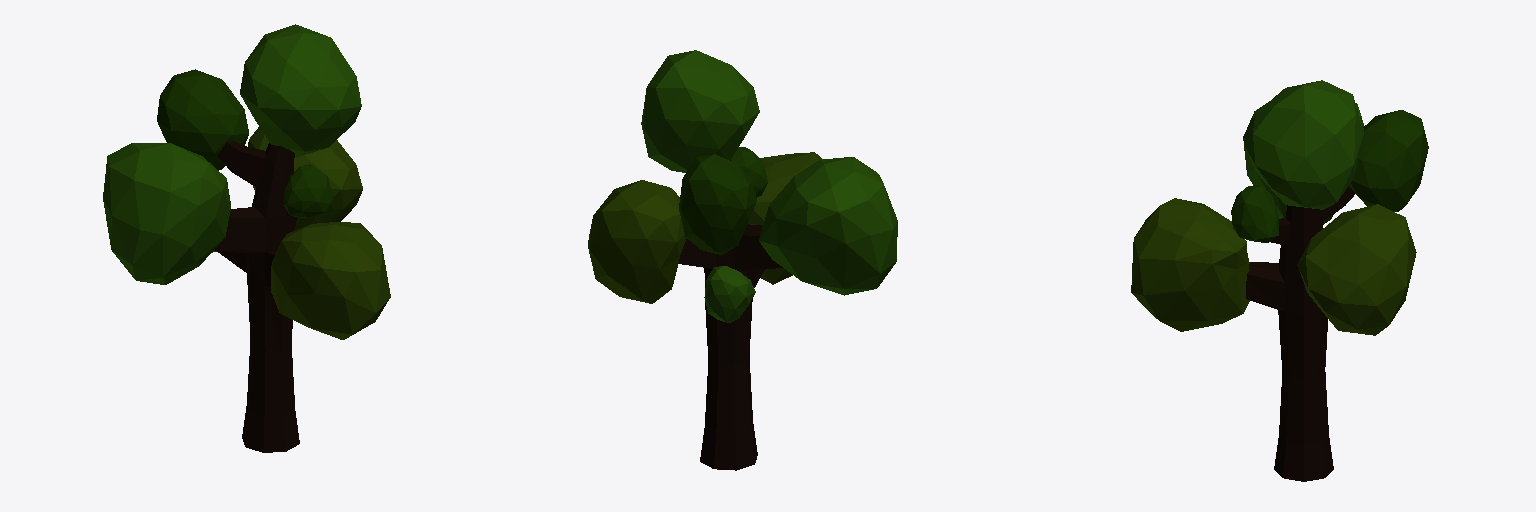
The model's file is Tree2.obj.
The picture shows the model from 3 angles: view 1: azimuth 30°, elevation 25°; view 2: azimuth 150°, elevation 25°; view 3: azimuth 270°, elevation 25°; orthographic projection.
Parts seen in each view (by area): view 1: Tree2_Cylinder.006; view 2: Tree2_Cylinder.006; view 3: Tree2_Cylinder.006.
Part boxes in pixels (left/top/right/bottom): Tree2_Cylinder.006: left=103, top=24, right=390, bottom=452; Tree2_Cylinder.006: left=588, top=50, right=897, bottom=470; Tree2_Cylinder.006: left=1131, top=80, right=1428, bottom=481.
Size of the model in its own units: 2.18 by 3.08 by 2.08.